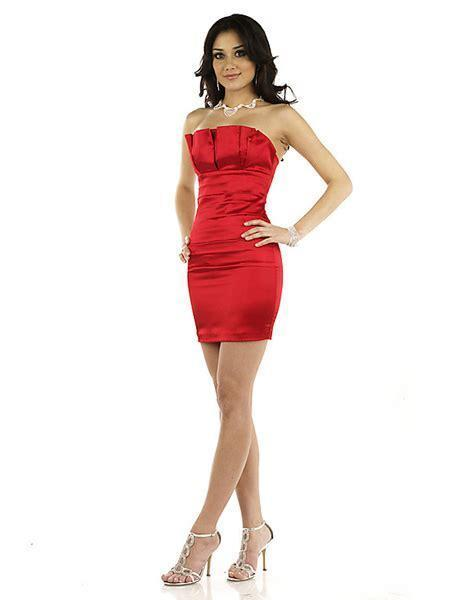dress: (184, 127, 284, 344)
